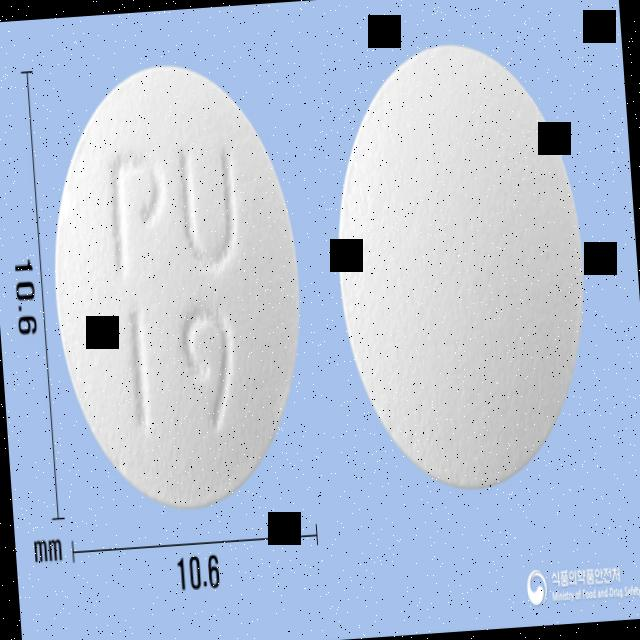Flori: (37, 52, 315, 516)
